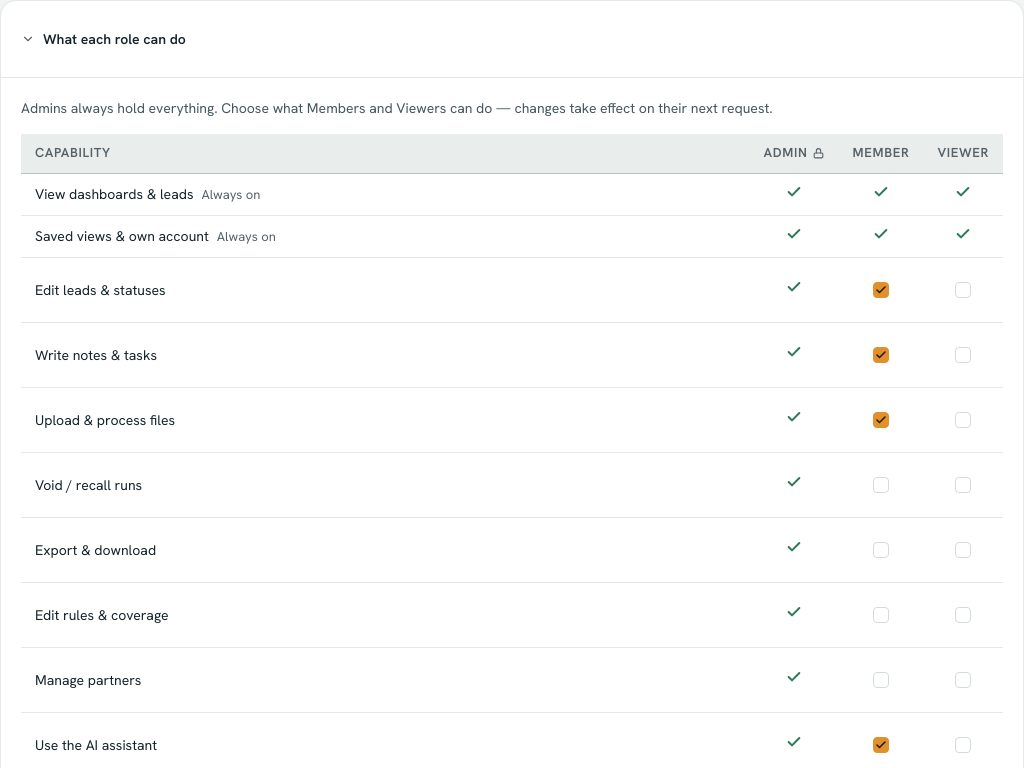
it: TM-12: the permissions matrix card › clearing an editable grant is equally a draft edit
What coordinates should you click on to do the following:
click the checkbox named "Upload & process files for Member"
I would click on:
 (881, 420)
Its box is [873, 412, 889, 428].
(page scrolled)
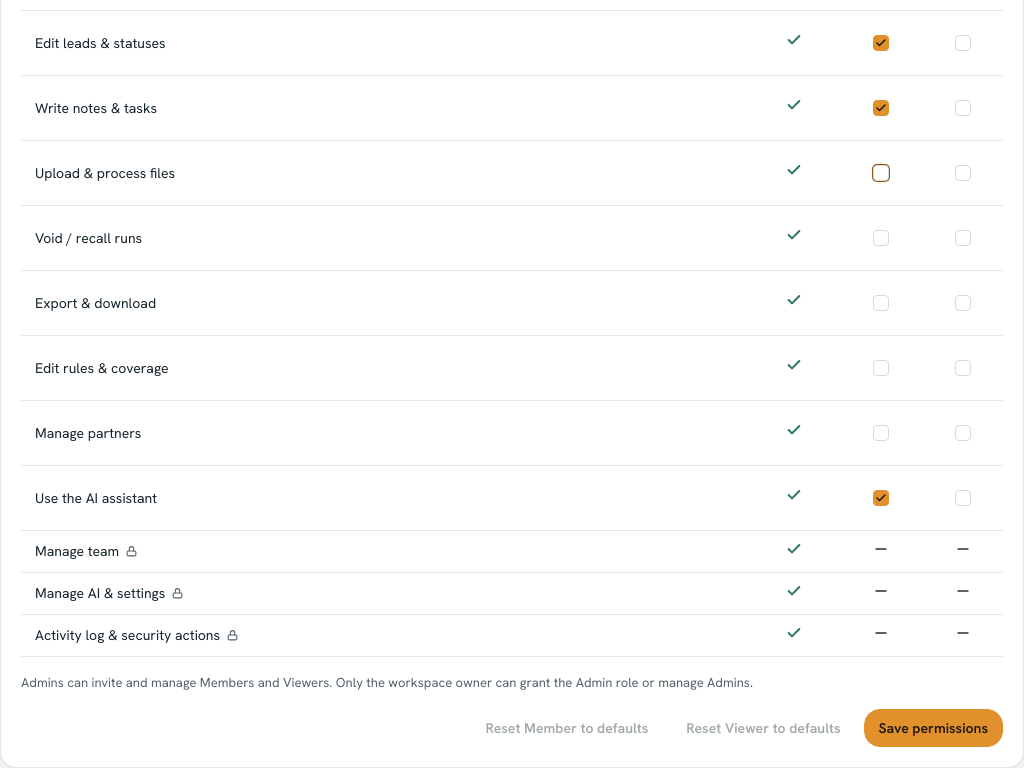
Check: the button "Save permissions" is enabled, box [864, 709, 1003, 747]
